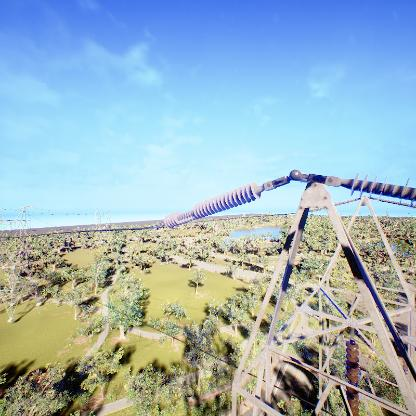insulator: (165, 181, 262, 230), (345, 341, 359, 416)
